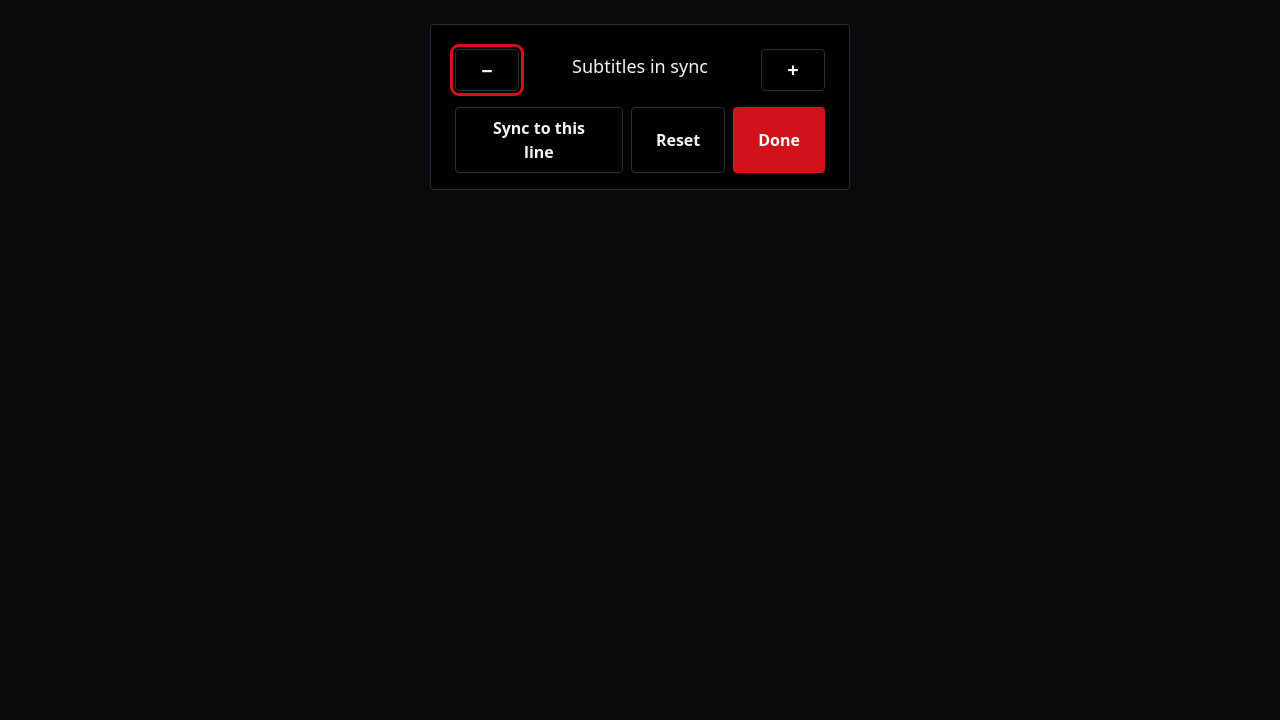
Test: the step buttons › shifts the subtitles a tenth of a second later, and back again
Click the button named "Shift the subtitles later": {"x": 793, "y": 70} [761,49,825,91]
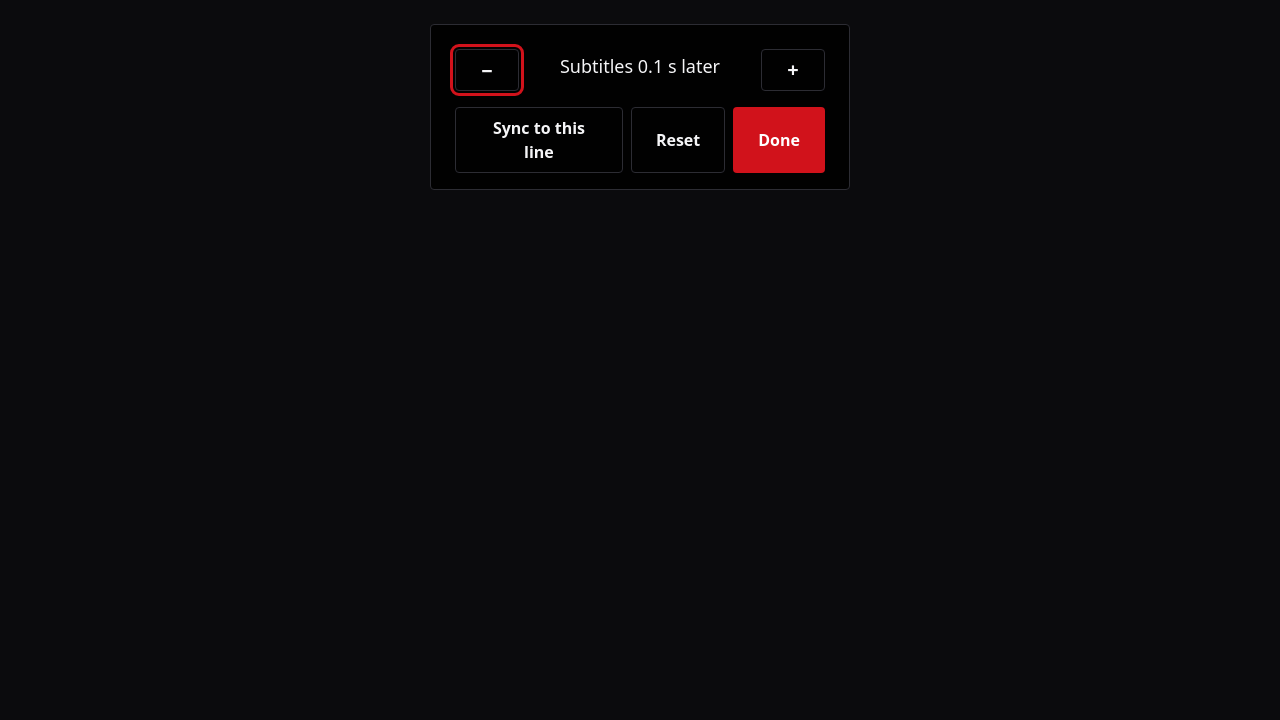
Result: the message "Subtitles 0.1 s later" is shown at [560,54,720,78]
Click the button named "Shift the subtitles earlier": {"x": 487, "y": 70} [455,49,519,91]
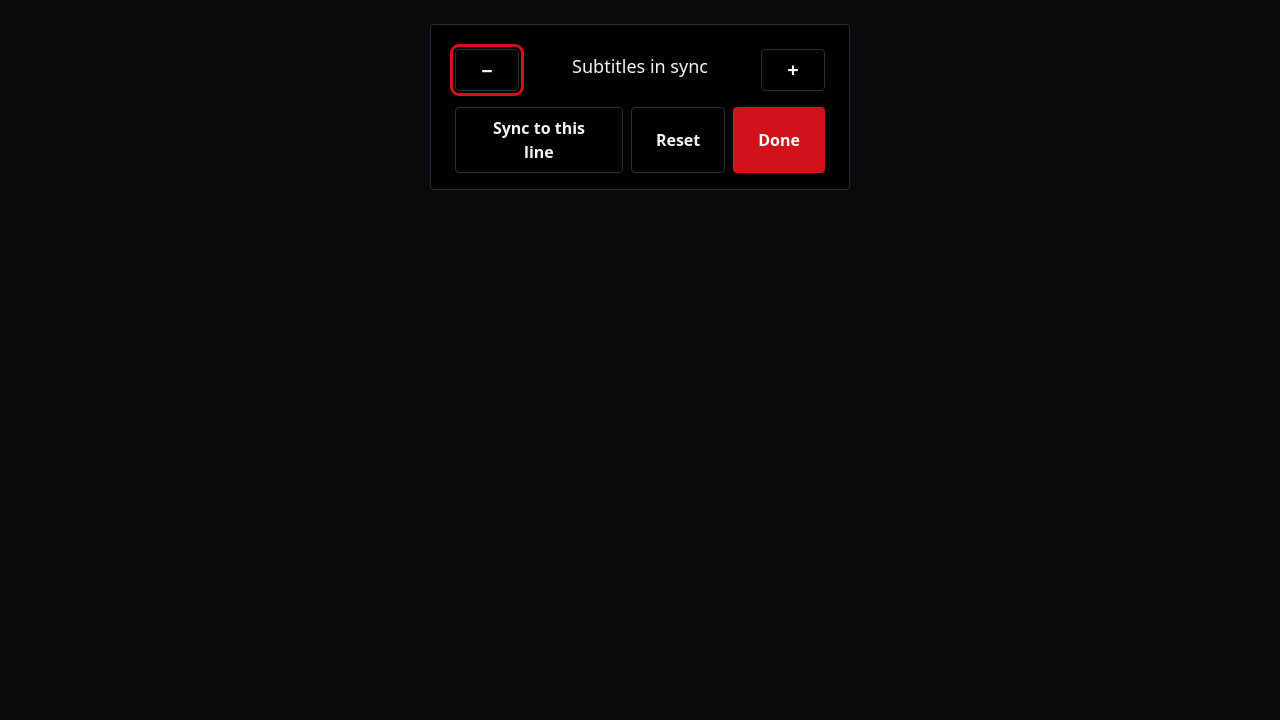
Result: the message "Subtitles in sync" is shown at [572,54,708,78]
Click the button named "Shift the subtitles earlier": {"x": 487, "y": 70} [455,49,519,91]
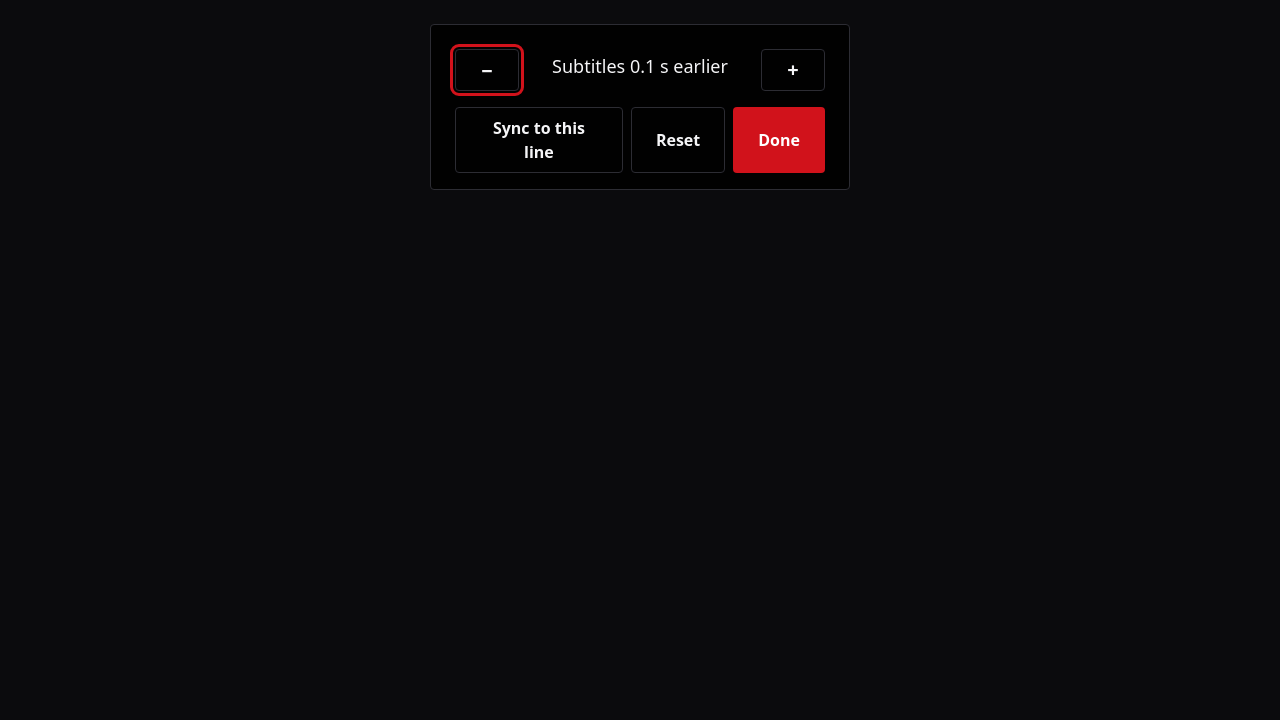
Result: the message "Subtitles 0.1 s earlier" is shown at [552,54,728,78]
